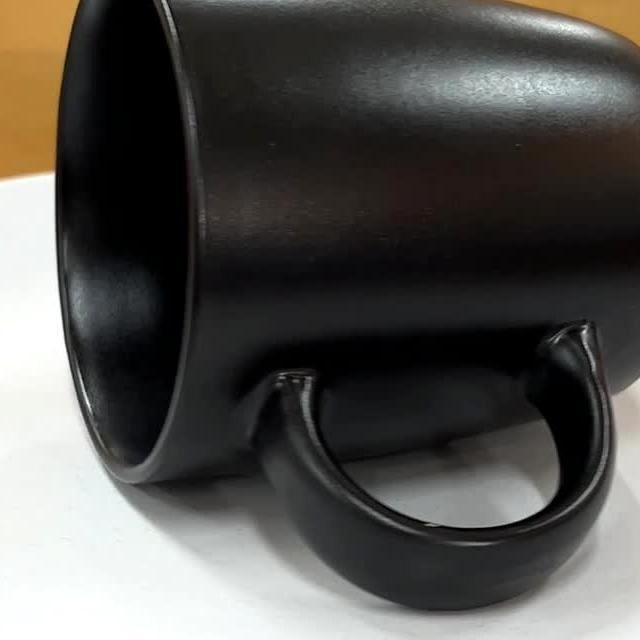cup: (56, 0, 640, 612)
